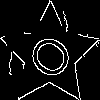O: (25, 30, 83, 89)
